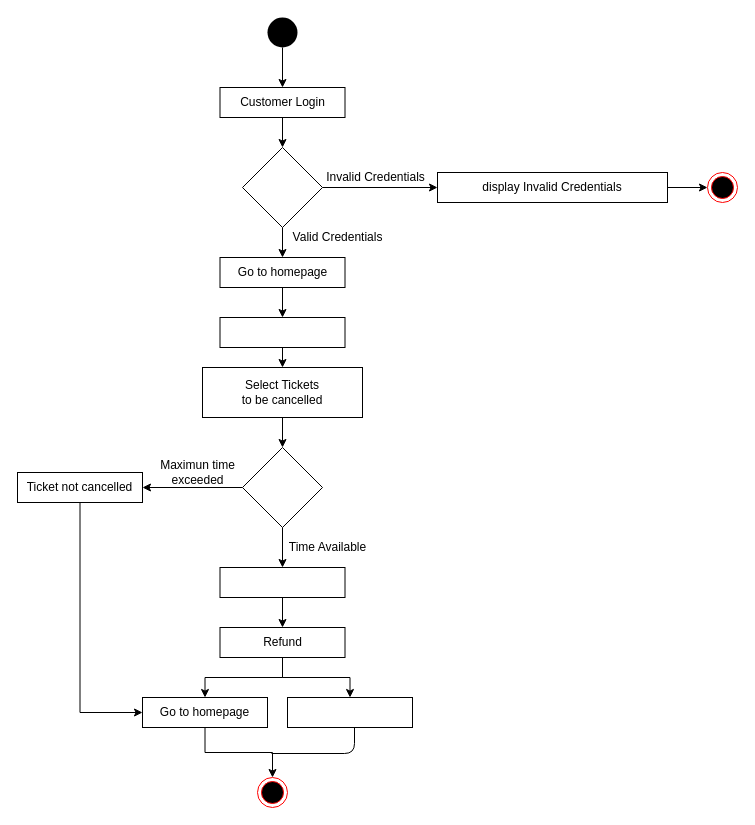
This 755x825 diagram has some shape labels left out. Each missing label, with the centre of its shape:
Go to Manage Bookings: [282,332]
Logout: [349,712]
Ticket Cancelled: [282,582]
